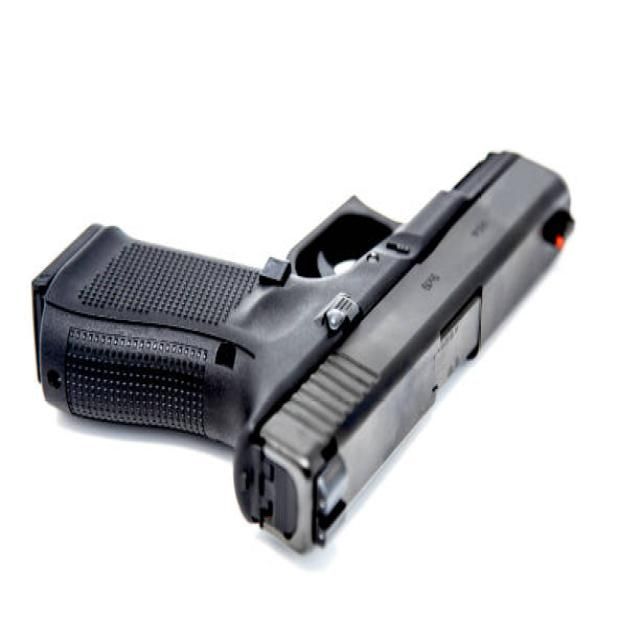pistol: (27, 129, 586, 572)
